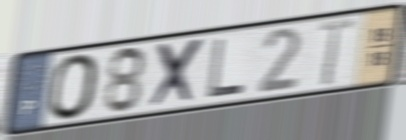2: (254, 26, 302, 97)
8: (101, 44, 149, 117)
L: (205, 37, 247, 100)
O: (47, 51, 101, 122)
T: (317, 16, 357, 89)
X: (148, 35, 208, 111)
